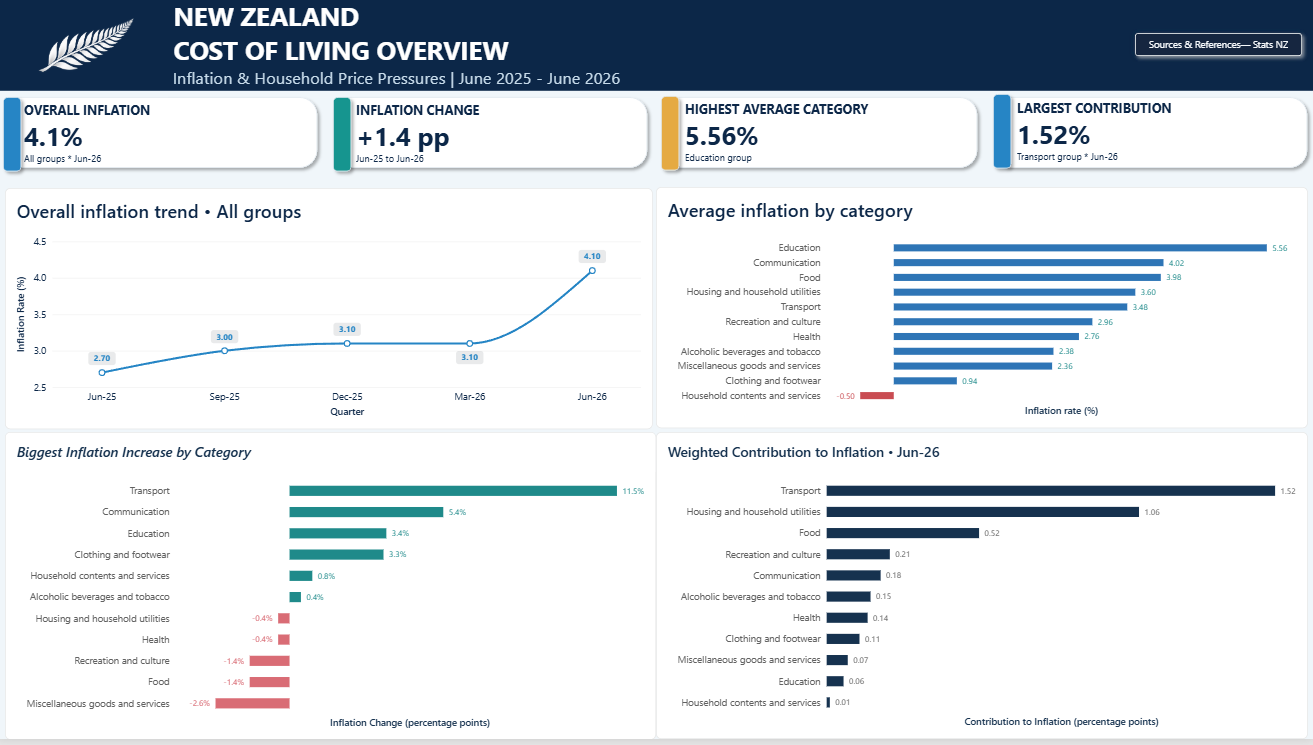

The dashboard page shown, as its layout file describes it:
{"tool":"powerbi","page":{"name":"NZ Cost of Living Overview","canvas":[1920,1080],"ordinal":0},"visuals":[{"type":"shape","box":[0,0,1920.1,133.9],"z":0},{"type":"textbox","box":[0,0,1920.6,134.3],"z":1000},{"type":"image","box":[0,0,248.7,134.3],"z":2000},{"type":"shape","box":[1444,134.8,476.2,121],"z":3000},{"type":"shape","box":[481.4,134.8,476.2,121],"z":4000},{"type":"shape","box":[962.7,134.8,476.2,121],"z":5000},{"type":"shape","box":[0.1,134.6,476.2,121],"z":6000},{"type":"shape","box":[0,133.8,44.3,126.2],"z":7000},{"type":"shape","box":[481.5,133.8,44.3,126.2],"z":8000},{"type":"textbox","box":[1487.8,146.6,349.4,28.8],"z":8000,"group":"g4"},{"type":"textbox","box":[1004.1,147.8,349.4,28.8],"z":8000,"group":"g3"},{"type":"textbox","box":[40,148.8,349.4,28.8],"z":8000,"group":"g1"},{"type":"textbox","box":[523.6,149.2,349.4,28.8],"z":8000,"group":"g2"},{"type":"shape","box":[960,132.3,44.3,126.2],"z":9000},{"type":"textbox","box":[1487.8,173.1,337.1,50],"z":9000,"group":"g4"},{"type":"textbox","box":[1004.1,174.3,337.1,50],"z":9000,"group":"g3"},{"type":"textbox","box":[40,175.3,337.1,50],"z":9000,"group":"g1"},{"type":"textbox","box":[523.6,175.7,337.1,50],"z":9000,"group":"g2"},{"type":"shape","box":[1443.8,129.2,44.3,126.2],"z":10000},{"type":"textbox","box":[1487.8,220.7,328.8,20],"z":10000,"group":"g4"},{"type":"textbox","box":[1004.1,221.9,328.8,20],"z":10000,"group":"g3"},{"type":"textbox","box":[40,222.9,328.8,20],"z":10000,"group":"g1"},{"type":"textbox","box":[523.6,223.3,328.8,20],"z":10000,"group":"g2"},{"type":"group","id":"g1","title":"Group 1","box":[40,148.8,349.4,94.1],"z":11000},{"type":"group","id":"g2","title":"Group 1","box":[523.6,149.2,349.4,94.1],"z":12000},{"type":"group","id":"g3","title":"Group 1","box":[1004.1,147.8,349.4,94.1],"z":13000},{"type":"group","id":"g4","title":"Group 1","box":[1487.8,146.6,349.4,94.1],"z":14000},{"type":"lineChart","title":"Overall inflation trend • All groups","fields":{"Category":["nz_cost_of_living cpi_inflation.Quarter"],"Y":["Sum(nz_cost_of_living cpi_inflation.Inflation)"]},"box":[0,275.3,957.6,352.5],"z":15000},{"type":"clusteredBarChart","title":"Average inflation by category","fields":{"Category":["nz_cost_of_living cpi_inflation.Category Match"],"Y":["Avg(nz_cost_of_living cpi_inflation.Inflation)"]},"box":[961,274,959,352.5],"z":16000},{"type":"clusteredBarChart","title":"Biggest Inflation Increase by Category","fields":{"Category":["nz_cost_of_living cpi_inflation.Category Match"],"Y":["nz_cost_of_living cpi_inflation.Inflation_Increase_Group"]},"box":[0,631.9,961.2,448.7],"z":16002},{"type":"clusteredBarChart","title":"Weighted Contribution to Inflation • Jun-26","fields":{"Category":["nz_cost_of_living cpi_inflation.Category Match"],"Y":["nz_cost_of_living cpi_inflation.Weighted Contribution"]},"box":[961.6,631.8,959,448.2],"z":16003},{"type":"actionButton","box":[1652.2,41.1,261.1,51.1],"z":16004}]}

Visuals, with their boxes in screenshot pixels (x1, y1, x2, y2), scaled from the page's 1920x1080 canvas onto the 1313x745 screenshot:
shape: x1=0 y1=0 x2=1312 y2=92
textbox: x1=0 y1=0 x2=1312 y2=93
image: x1=0 y1=0 x2=170 y2=93
shape: x1=987 y1=93 x2=1312 y2=176
shape: x1=329 y1=93 x2=655 y2=176
shape: x1=658 y1=93 x2=984 y2=176
shape: x1=0 y1=93 x2=326 y2=176
shape: x1=0 y1=92 x2=30 y2=179
shape: x1=329 y1=92 x2=360 y2=179
textbox: x1=1017 y1=101 x2=1256 y2=121
textbox: x1=687 y1=102 x2=926 y2=122
textbox: x1=27 y1=103 x2=266 y2=123
textbox: x1=358 y1=103 x2=597 y2=123
shape: x1=656 y1=91 x2=687 y2=178
textbox: x1=1017 y1=119 x2=1248 y2=154
textbox: x1=687 y1=120 x2=917 y2=155
textbox: x1=27 y1=121 x2=258 y2=155
textbox: x1=358 y1=121 x2=589 y2=156
shape: x1=987 y1=89 x2=1018 y2=176
textbox: x1=1017 y1=152 x2=1242 y2=166
textbox: x1=687 y1=153 x2=912 y2=167
textbox: x1=27 y1=154 x2=252 y2=168
textbox: x1=358 y1=154 x2=583 y2=168
"Group 1" group: x1=27 y1=103 x2=266 y2=168
"Group 1" group: x1=358 y1=103 x2=597 y2=168
"Group 1" group: x1=687 y1=102 x2=926 y2=167
"Group 1" group: x1=1017 y1=101 x2=1256 y2=166
"Overall inflation trend • All groups" lineChart: x1=0 y1=190 x2=655 y2=433
"Average inflation by category" clusteredBarChart: x1=657 y1=189 x2=1312 y2=432
"Biggest Inflation Increase by Category" clusteredBarChart: x1=0 y1=436 x2=657 y2=744
"Weighted Contribution to Inflation • Jun-26" clusteredBarChart: x1=658 y1=436 x2=1312 y2=744
actionButton: x1=1130 y1=28 x2=1308 y2=64
